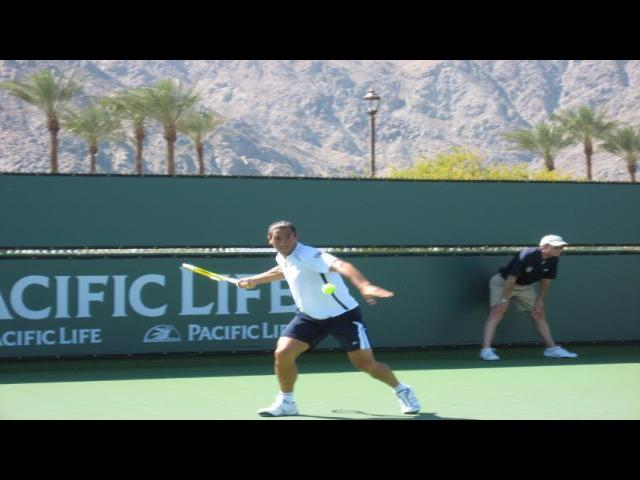tennis-ball: (321, 284, 336, 294)
